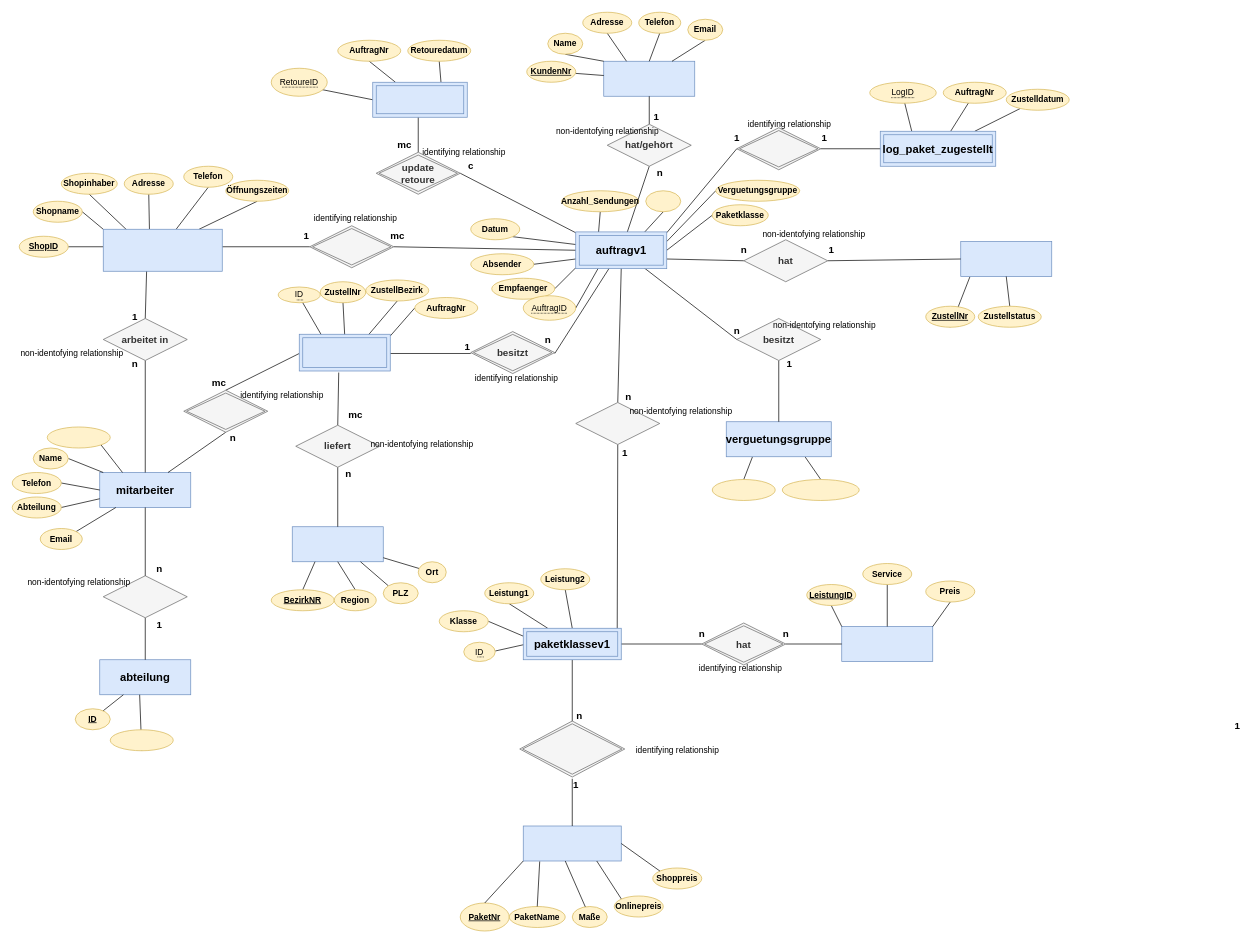
This 1257x944 diagram has some shape labels left out. Here are the shapes that lost their labels. From the top down, the centre of each, then its label:
At (649,78): "kunde".
At (419,99): "log_retoure".
At (778,148): "update zugestellt".
At (663,201): "Status".
At (162,250): "parcel_express_shop".
At (351,246): "gibt".
At (1006,258): "sendungsstatus".
At (344,352): "zusteller".
At (225,411): "ist".
At (617,423): "besitz".
At (78,437): "MitarbeitNr".
At (743,489): "VerguetungsID".
At (820,489): "Verguetungsname".
At (337,544): "bezirk".
At (145,596): "gehört zu".
At (887,644): "leistung".
At (141,740): "Beschreibung".
At (572,748): "zusammengefasst zu".
At (572,843): "Paketklassen".
